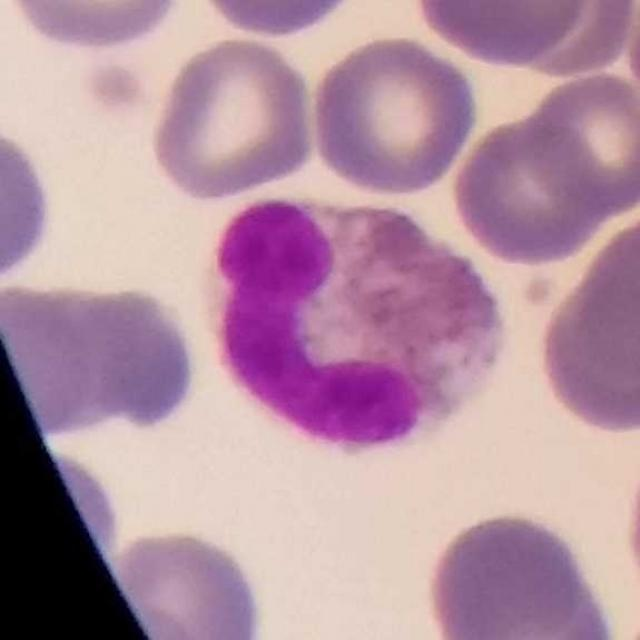Eosinophil: (204, 189, 506, 458)
Platelets: (84, 51, 152, 111), (518, 268, 560, 310)
RBC: (144, 33, 320, 205), (305, 31, 483, 199), (416, 505, 620, 640), (445, 108, 617, 267), (531, 209, 640, 440), (51, 280, 204, 438), (2, 280, 125, 436), (108, 523, 269, 640), (518, 66, 640, 218), (408, 0, 598, 69), (501, 0, 640, 80), (2, 0, 192, 56), (0, 114, 59, 292), (189, 0, 373, 41), (617, 425, 640, 625), (623, 0, 639, 121)
